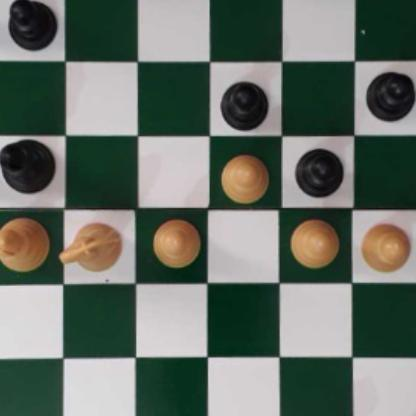black-bishop: (0, 136, 56, 194)
black-pawn: (219, 75, 271, 129), (293, 144, 345, 197), (365, 68, 415, 121), (7, 0, 56, 49)
white-bishop: (0, 216, 49, 271)
white-knight: (62, 219, 123, 275)
white-pawn: (359, 219, 411, 274), (216, 152, 271, 202), (289, 216, 339, 267), (150, 219, 200, 267)
